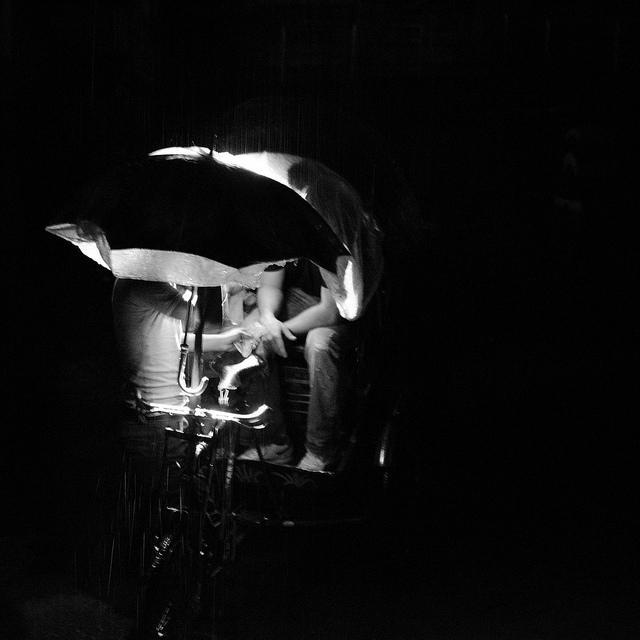bicycle: (69, 382, 274, 634)
